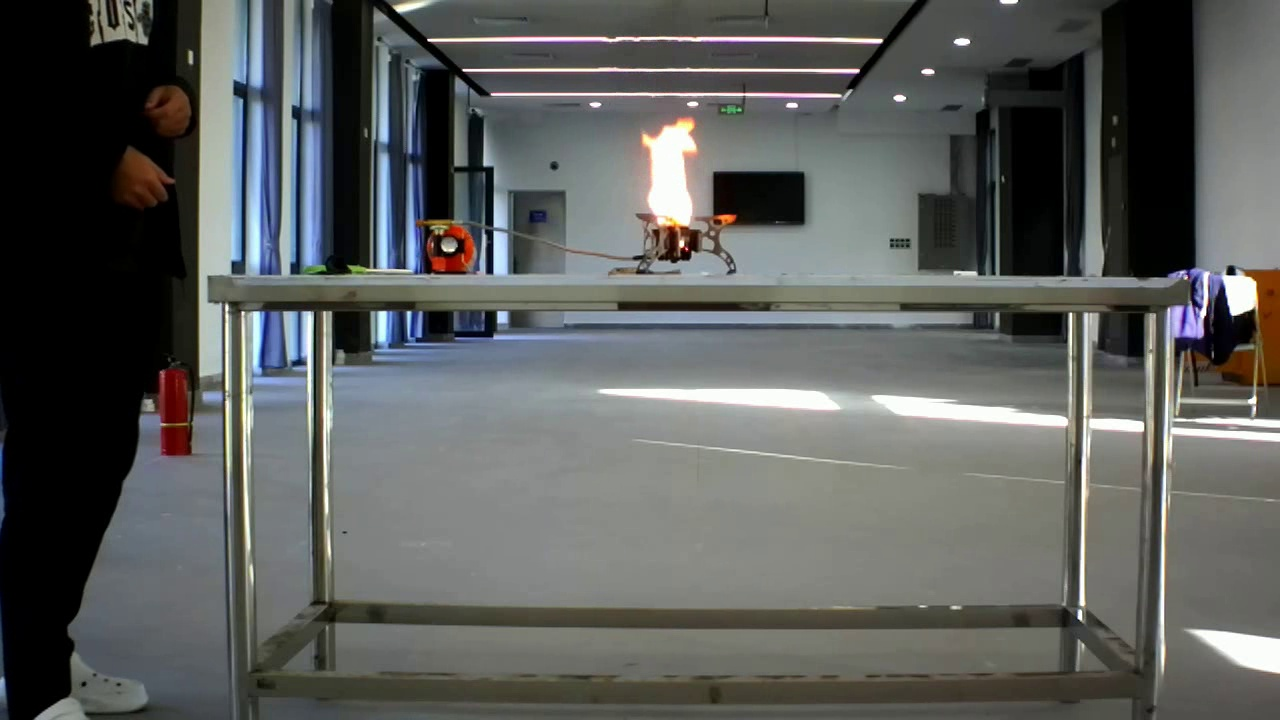Fire: (624, 106, 740, 263)
